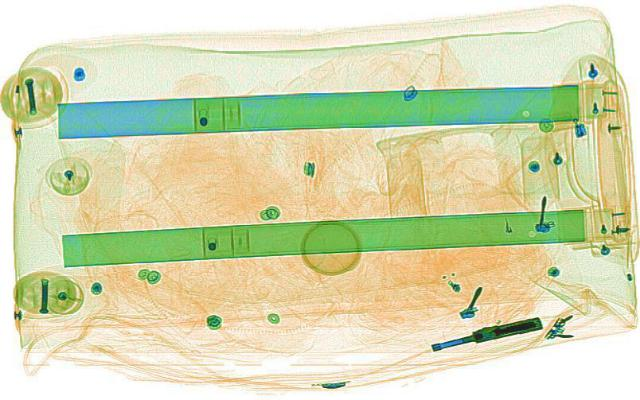Gun: (406, 312, 554, 352)
